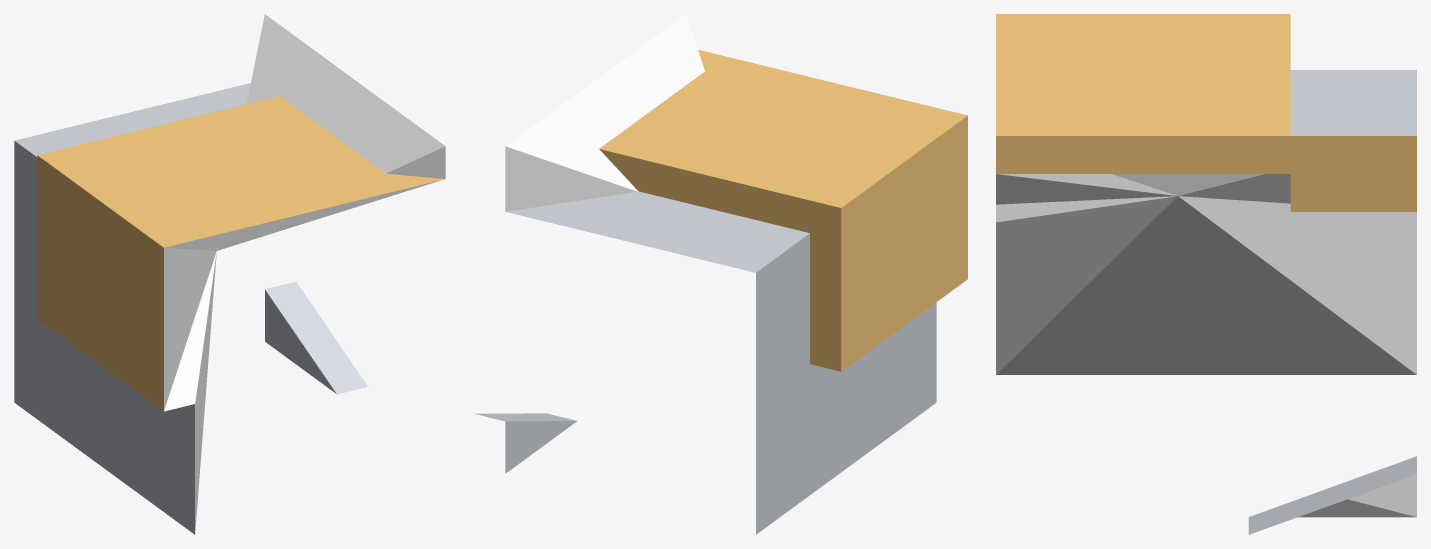
3 renders of one model, left to right at view 1: azimuth 30°, elevation 25°; view 2: azimuth 150°, elevation 25°; view 3: azimuth 270°, elevation 25°, orthographic. The views are drawn at different scales.
Bounding box in the file's own units: 1 × 1 × 1.
